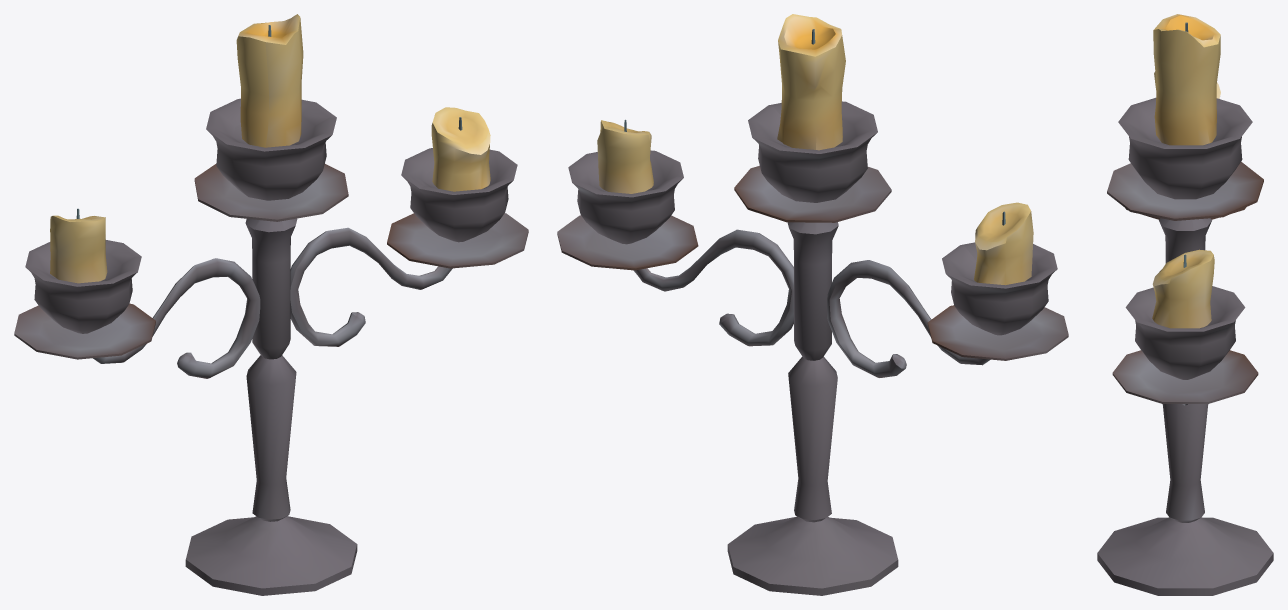
File: candles.glb
3 renders of one model, left to right at view 1: azimuth 30°, elevation 25°; view 2: azimuth 150°, elevation 25°; view 3: azimuth 270°, elevation 25°, orthographic.
Parts seen in each view (by area): view 1: candles; view 2: candles; view 3: candles.
Part boxes in pixels (x1=…): candles: x1=14, y1=14, x2=528, y2=595; candles: x1=557, y1=14, x2=1068, y2=595; candles: x1=1097, y1=14, x2=1273, y2=595.
Bounding box in the file's own units: 0.4423 × 0.4633 × 0.1364.
